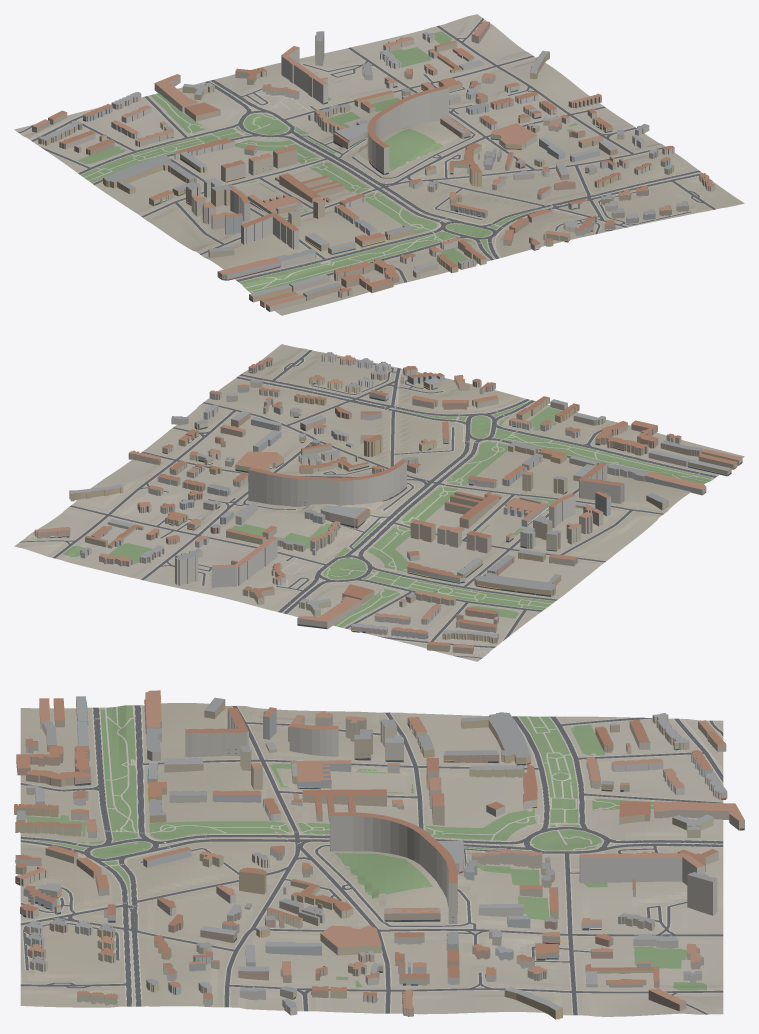
3 views of the same model, one above another, from view 1: azimuth 30°, elevation 25°; view 2: azimuth 150°, elevation 25°; view 3: azimuth 270°, elevation 25° (orthographic). The views are drawn at different scales.
Visible parts, largest first — view 1: Ground, Walls, Roofs, Park, Sidewalk, Road, Detail; view 2: Ground, Walls, Roofs, Sidewalk, Road, Park, Detail; view 3: Ground, Walls, Roofs, Park, Road, Sidewalk, Detail.
Boxes of the visible parts, bbox=[...] form: Ground: bbox=[14, 14, 744, 315]; Walls: bbox=[32, 22, 715, 311]; Roofs: bbox=[32, 21, 714, 306]; Park: bbox=[77, 31, 577, 293]; Sidewalk: bbox=[18, 17, 716, 293]; Road: bbox=[18, 18, 715, 284]; Detail: bbox=[83, 67, 615, 311]; Ground: bbox=[14, 344, 744, 661]; Walls: bbox=[34, 352, 742, 653]; Roofs: bbox=[35, 352, 742, 648]; Sidewalk: bbox=[18, 349, 717, 659]; Road: bbox=[19, 350, 716, 658]; Park: bbox=[62, 400, 714, 627]; Detail: bbox=[50, 371, 742, 637]; Ground: bbox=[20, 703, 723, 1016]; Walls: bbox=[14, 699, 744, 1019]; Roofs: bbox=[14, 690, 744, 1010]; Park: bbox=[24, 705, 706, 990]; Road: bbox=[20, 705, 723, 1015]; Sidewalk: bbox=[20, 705, 723, 1015]; Detail: bbox=[14, 699, 744, 1000].
Size of the model in its own units: 1043 by 78.71 by 1040.
